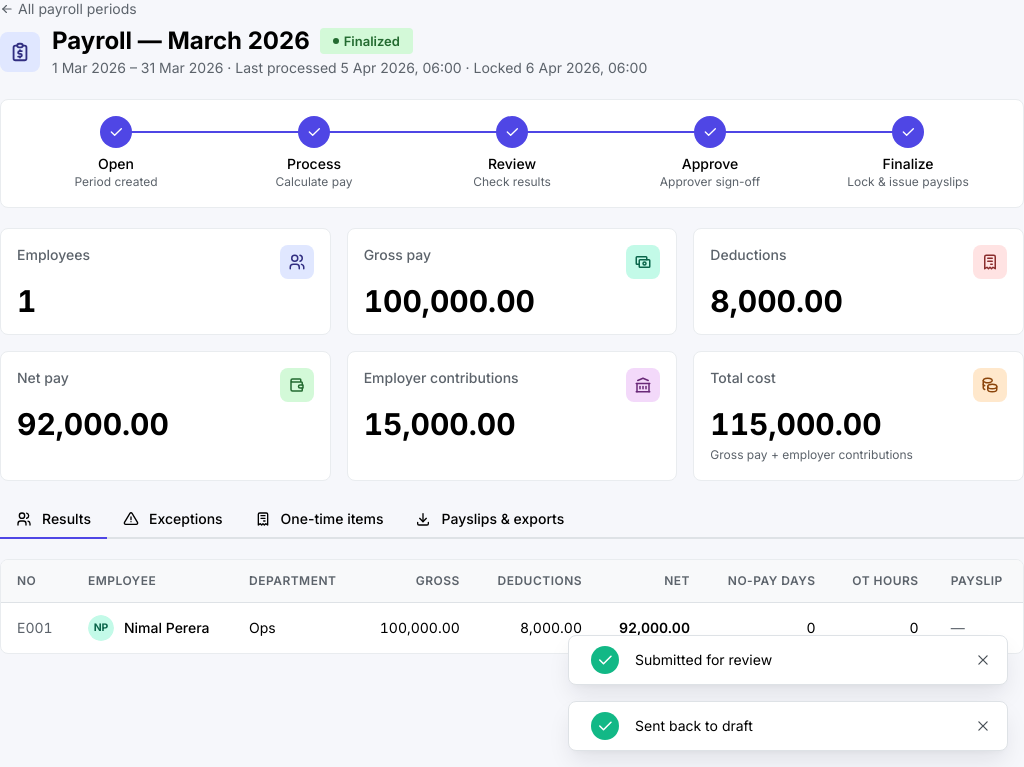
Payroll UI › FR-088 emails payslips of a finalized period and shows per-recipient results
Step 1. Click the tab "Payslips & exports" → click(490, 520), box x1=400 y1=501 x2=580 y2=539
(page scrolled)
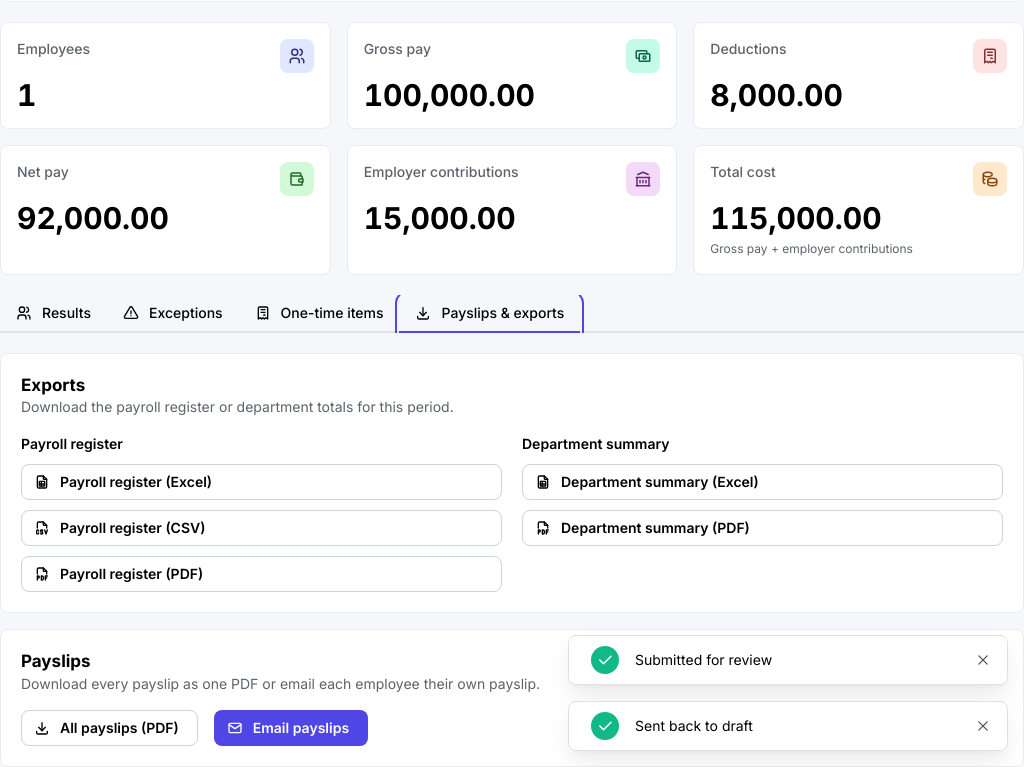
Result: the button "Payroll register (Excel)" is shown at x1=21 y1=464 x2=502 y2=500
Step 2. Click the button "Email payslips" → click(291, 728), box x1=214 y1=710 x2=368 y2=746
(page scrolled)
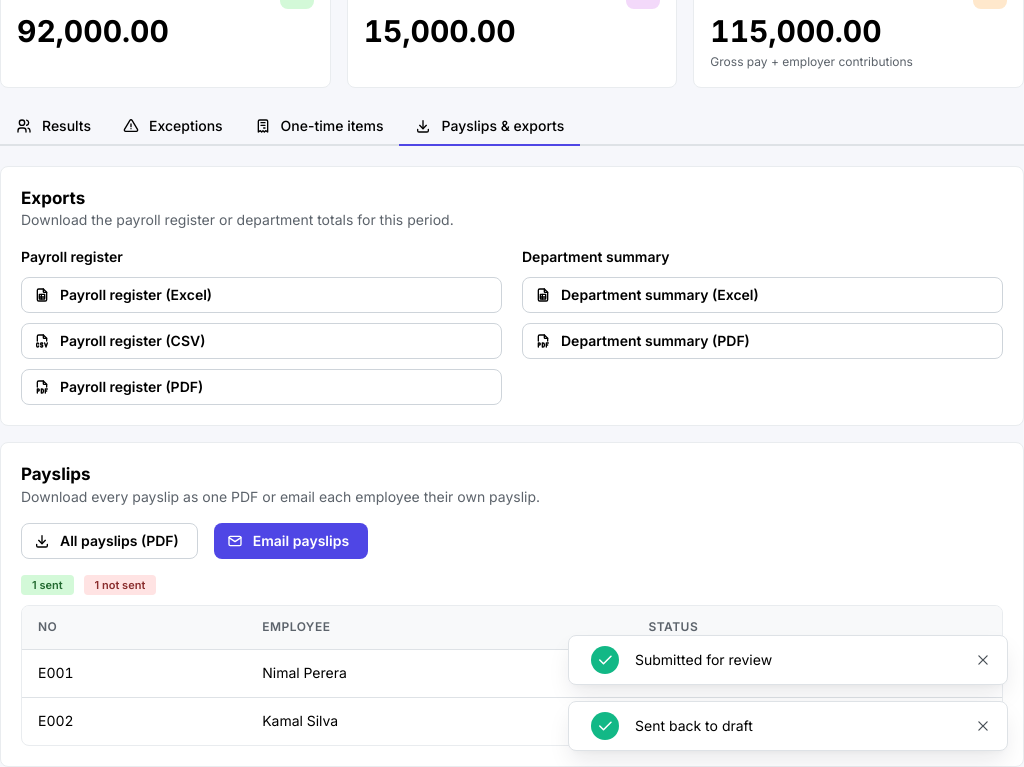
Expected: the text "No email" is shown, x1=670 y1=714 x2=717 y2=732
Result: the text "Kamal Silva" is shown at x1=246 y1=697 x2=632 y2=745
